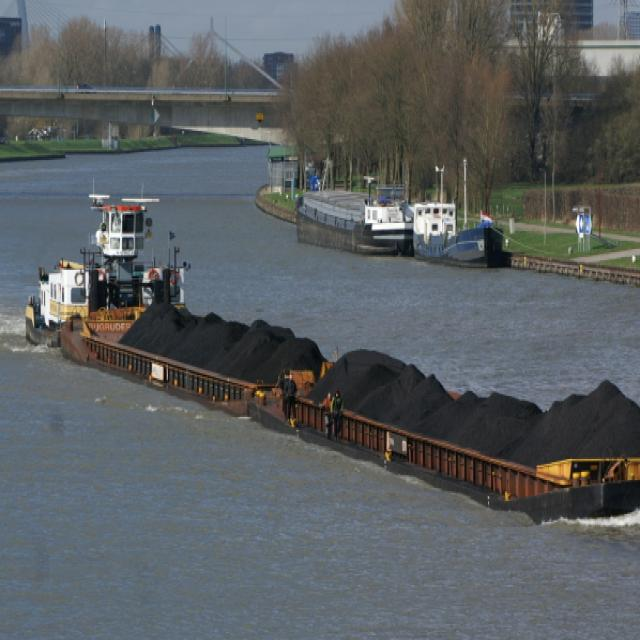tugboat: (22, 182, 196, 373)
